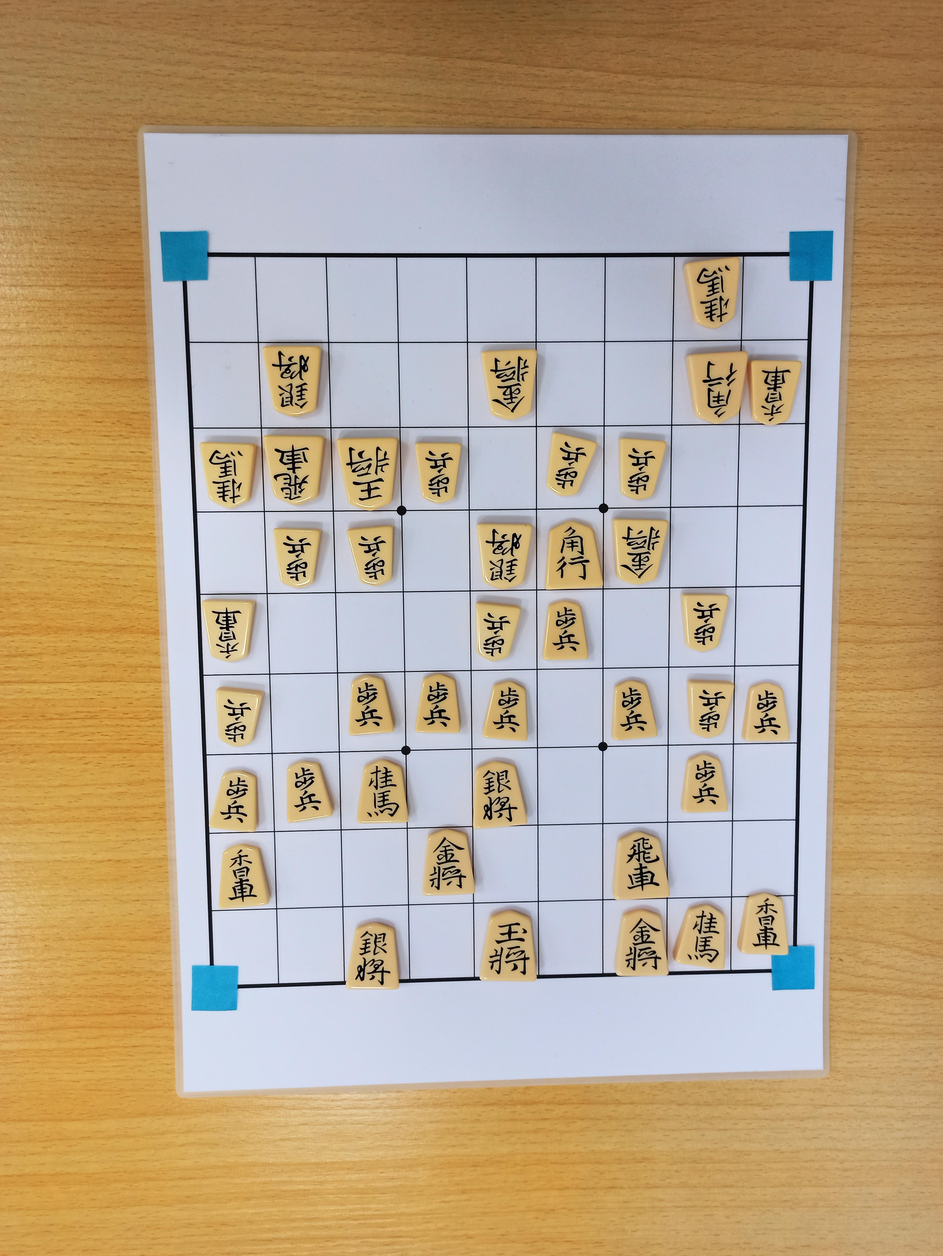board: (183, 254, 813, 987)
